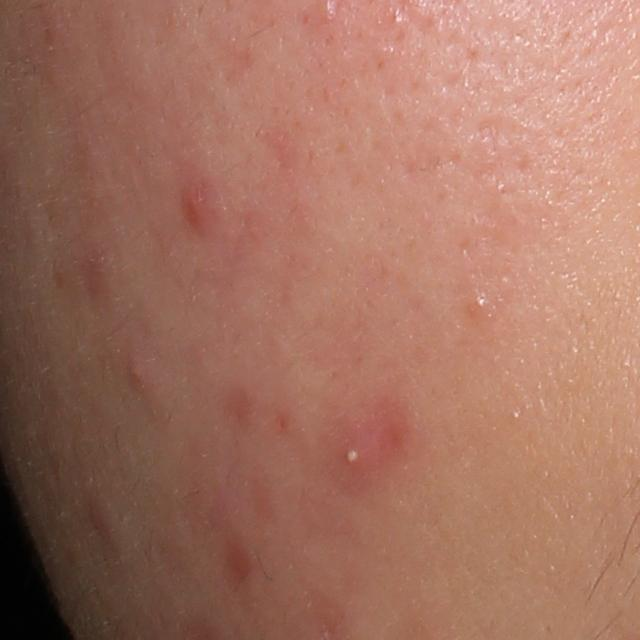comedo: (463, 286, 494, 323)
papule: (177, 179, 220, 240), (218, 532, 261, 592), (128, 351, 154, 393)
pustule: (336, 432, 382, 480)
